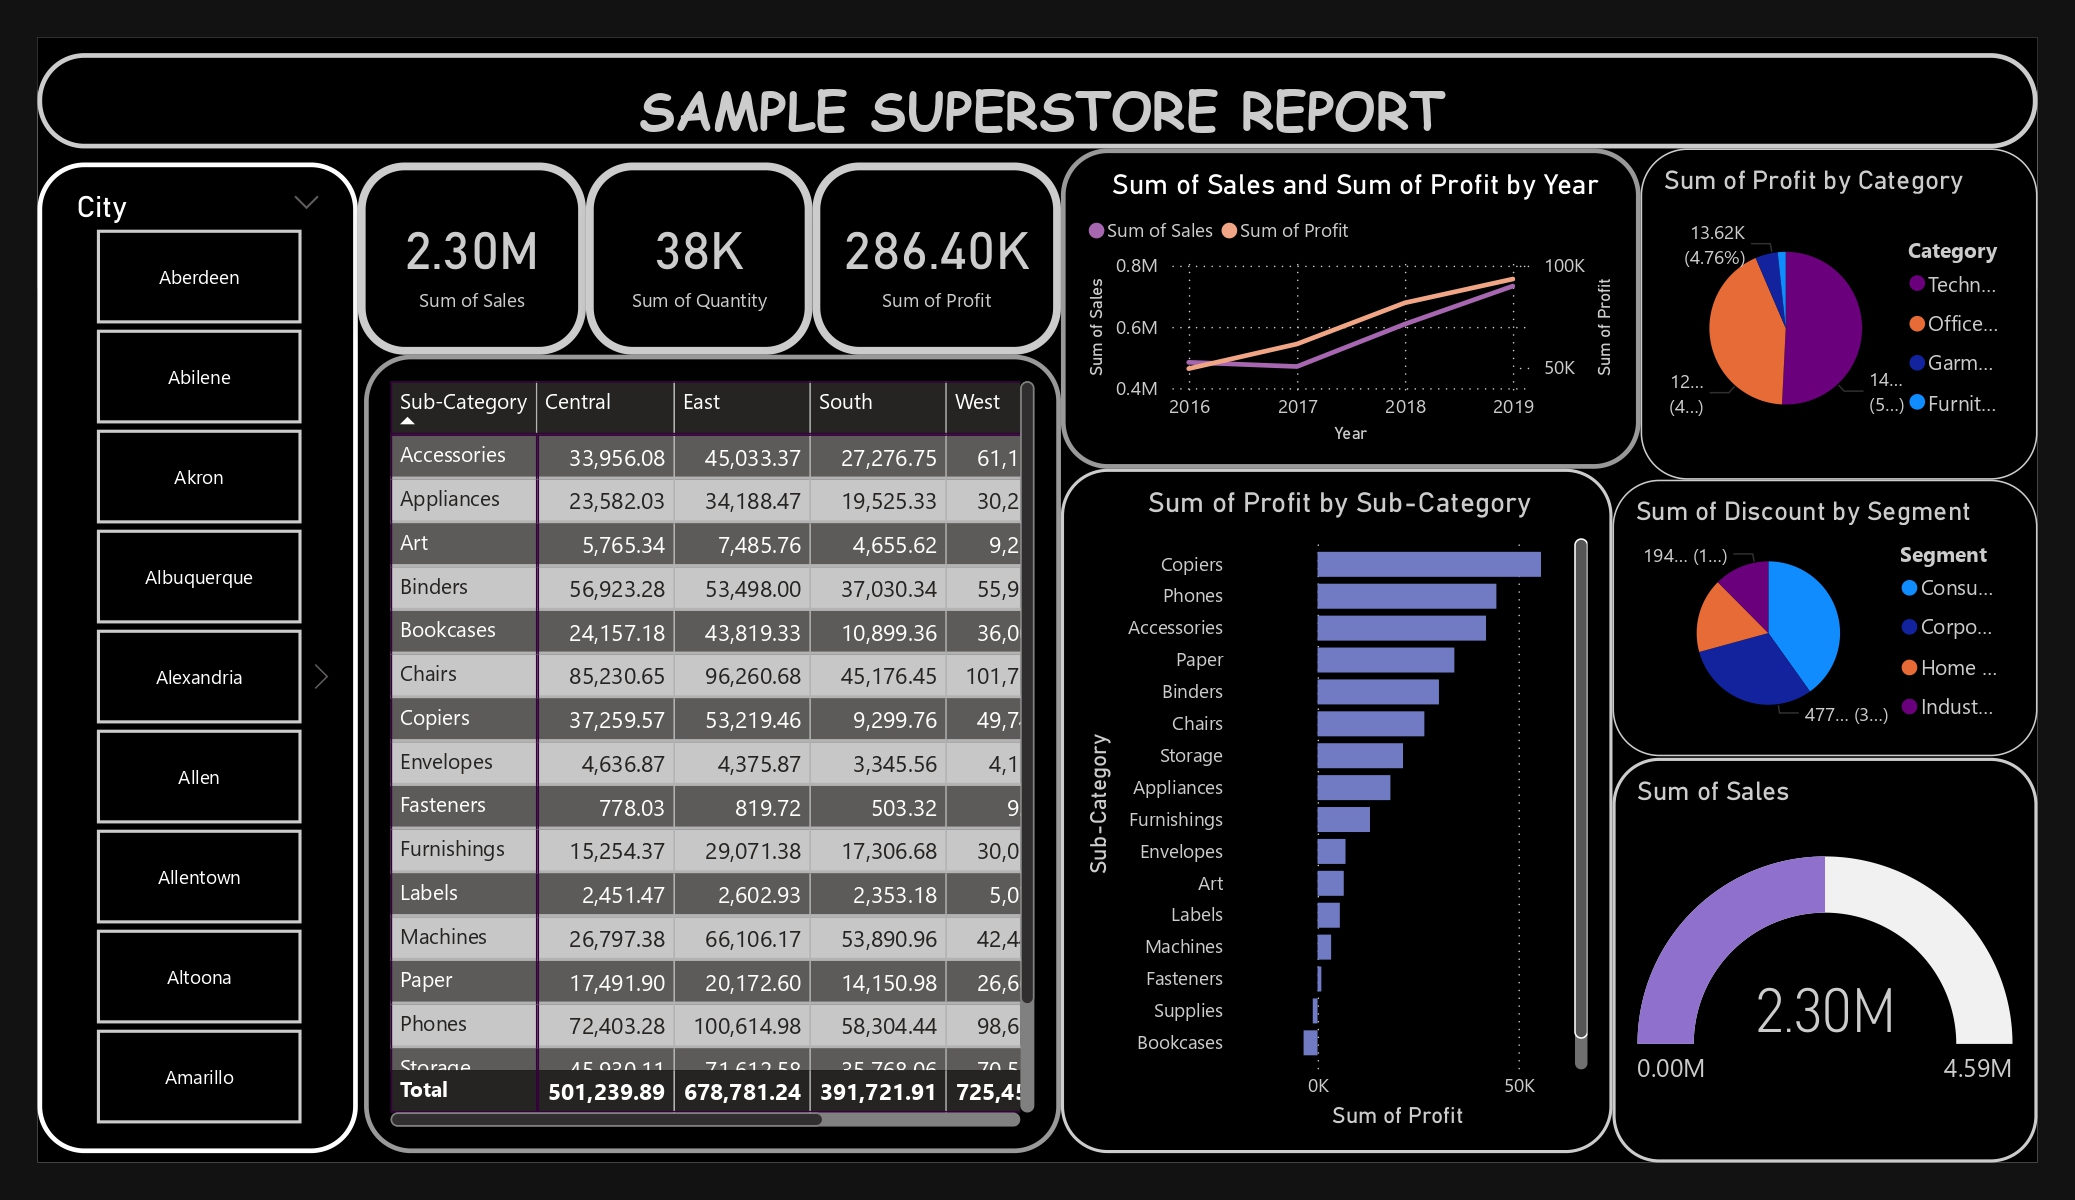

Layout of this report page (visuals, bound fields, positions):
{"tool":"powerbi","page":{"name":"Report","canvas":[1280,720],"ordinal":0},"visuals":[{"type":"textbox","title":"SAMPLE SUPERSTORE REPORT","box":[0,10,1280,61.2],"z":0},{"type":"slicer","fields":{"Values":["Orders.City"]},"box":[0,80,205,633.8],"z":1000},{"type":"card","fields":{"Values":["Sum(Orders.Sales)"]},"box":[205,80,146.2,122.5],"z":2000},{"type":"card","fields":{"Values":["Sum(Orders.Quantity)"]},"box":[351.2,80,145,122.5],"z":3000},{"type":"card","fields":{"Values":["Sum(Orders.Profit)"]},"box":[496.2,80,158.8,122.5],"z":4000},{"type":"pivotTable","fields":{"Columns":["Orders.Region"],"Values":["Sum(Orders.Sales)"],"Rows":["Orders.Sub-Category"]},"box":[208.8,202.5,446.2,511.2],"z":5000},{"type":"lineChart","fields":{"Y":["Sum(Orders.Sales)"],"Category":["Orders.Order Date.Variation.Date Hierarchy.Year","Orders.Order Date.Variation.Date Hierarchy.Quarter","Orders.Order Date.Variation.Date Hierarchy.Month","Orders.Order Date.Variation.Date Hierarchy.Day"],"Y2":["Sum(Orders.Profit)"]},"box":[655,71.2,371.2,205],"z":6000},{"type":"clusteredBarChart","fields":{"Category":["Orders.Sub-Category"],"Y":["Sum(Orders.Profit)"]},"box":[655,276.2,352.5,437.5],"z":7000},{"type":"pieChart","fields":{"Category":["Orders.Category"],"Y":["Sum(Orders.Profit)"]},"box":[1026.2,71.2,253.8,211.2],"z":8000},{"type":"pieChart","fields":{"Category":["Orders.Segment"],"Y":["Sum(Orders.Discount)"]},"box":[1007.5,282.5,272.5,177.5],"z":9000},{"type":"gauge","fields":{"Y":["Sum(Orders.Sales)"]},"box":[1007.5,461.2,272.5,258.8],"z":10000}]}

Visuals, with their boxes in screenshot pixels (x1, y1, x2, y2):
"SAMPLE SUPERSTORE REPORT" textbox: bbox=[38, 53, 2038, 149]
slicer - Orders.City: bbox=[38, 162, 358, 1153]
card - Sum(Orders.Sales): bbox=[358, 162, 586, 354]
card - Sum(Orders.Quantity): bbox=[586, 162, 813, 354]
card - Sum(Orders.Profit): bbox=[813, 162, 1061, 354]
pivotTable - Orders.Region x Sum(Orders.Sales): bbox=[364, 354, 1061, 1153]
lineChart - Sum(Orders.Sales) x Orders.Order Date.Variation.Date Hierarchy.Year: bbox=[1061, 149, 1641, 469]
clusteredBarChart - Orders.Sub-Category x Sum(Orders.Profit): bbox=[1061, 469, 1612, 1153]
pieChart - Orders.Category x Sum(Orders.Profit): bbox=[1641, 149, 2038, 479]
pieChart - Orders.Segment x Sum(Orders.Discount): bbox=[1612, 479, 2038, 756]
gauge - Sum(Orders.Sales): bbox=[1612, 758, 2038, 1162]
